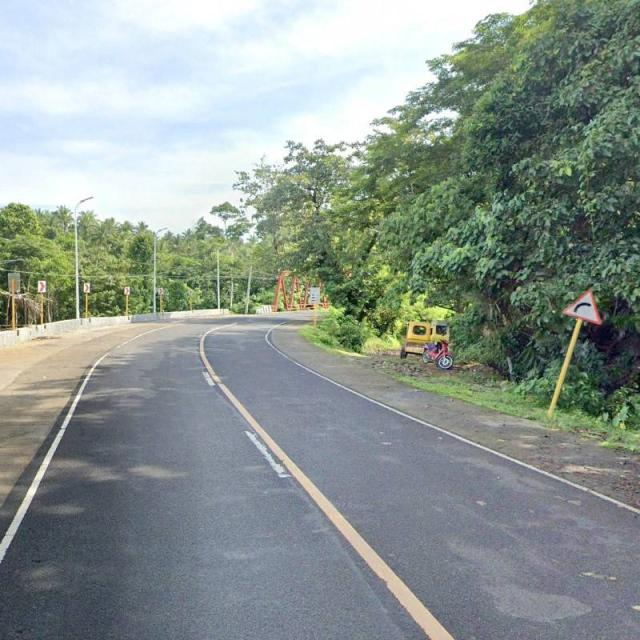warn_right_curve: (563, 289, 602, 324)
